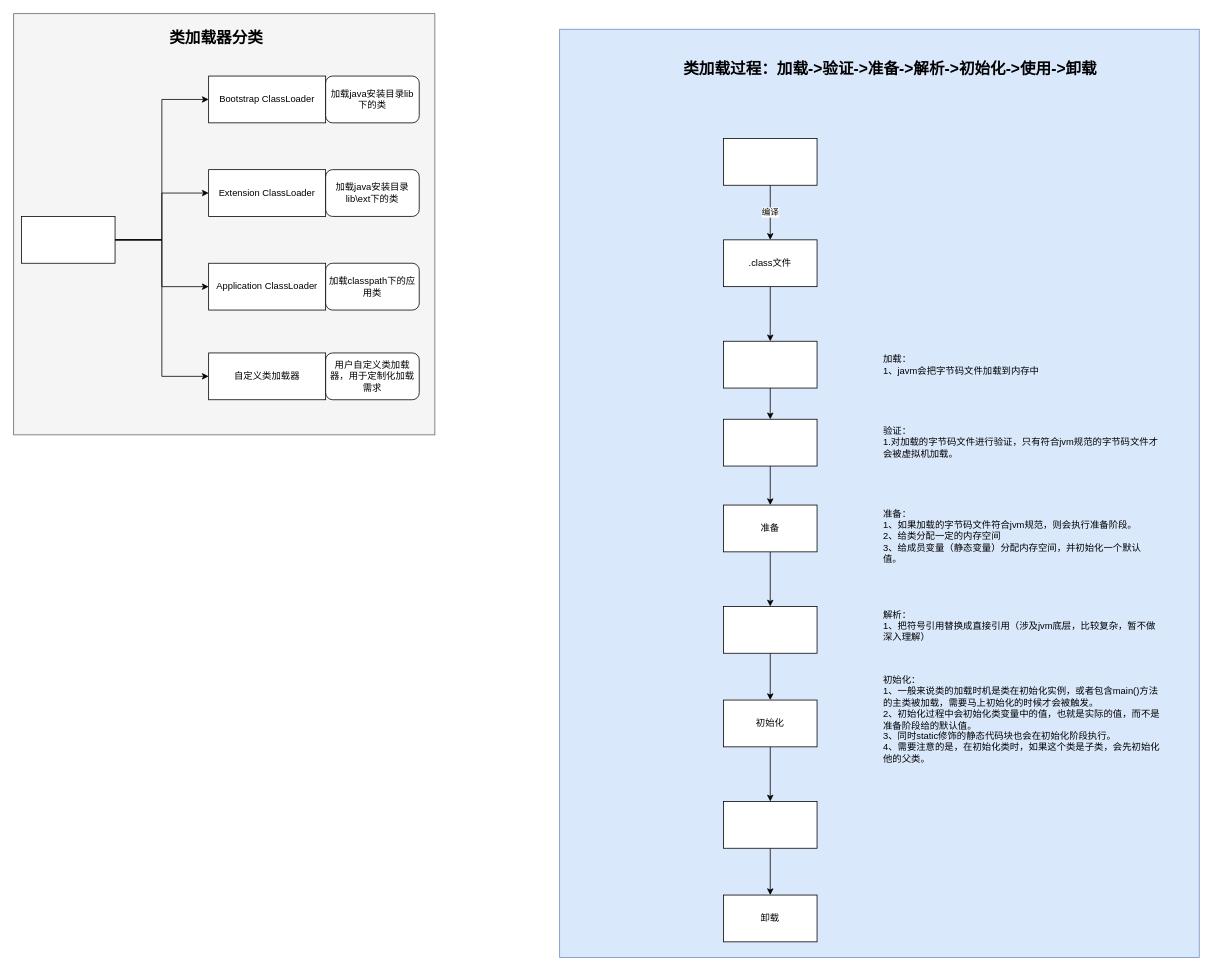
Image size: 1213x971. Some labels were removed from this diagram. The shapes that lost their labels are listed below. From the top down, each one's centre as x and y in pixels, then its label:
At pixel 770 161: ".java文件".
At pixel 68 239: "类加载器".
At pixel 770 364: "加载".
At pixel 770 442: "验证".
At pixel 770 629: "解析".
At pixel 770 824: "使用".
